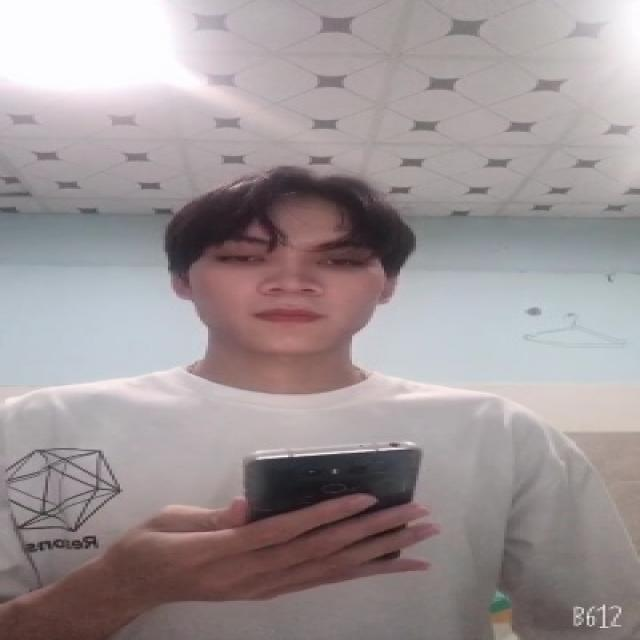Phone: (241, 437, 425, 568)
